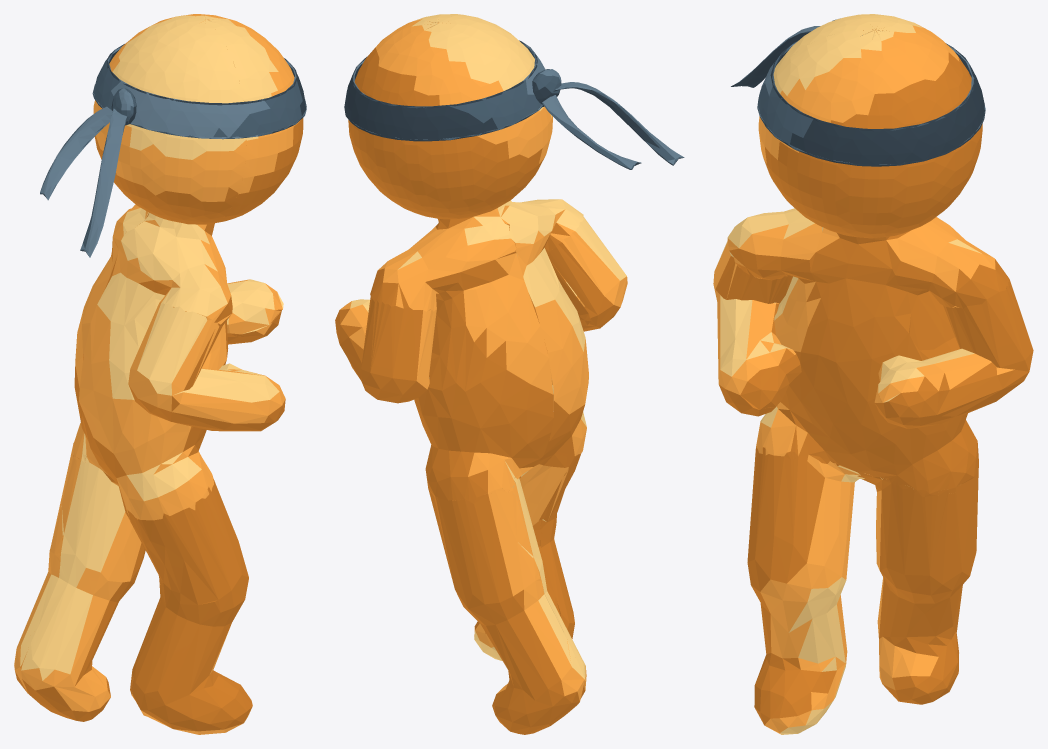
The model's file is Ninja_Jog4_R.gltf.
3 renders of one model, left to right at view 1: azimuth 30°, elevation 25°; view 2: azimuth 150°, elevation 25°; view 3: azimuth 270°, elevation 25°, orthographic. The views are drawn at different scales.
Parts seen in each view (by area): view 1: Ninja_Jog4_R_baked; view 2: Ninja_Jog4_R_baked; view 3: Ninja_Jog4_R_baked.
Part boxes in pixels (<box>): Ninja_Jog4_R_baked: <box>14,14,306,734</box>; Ninja_Jog4_R_baked: <box>335,14,684,734</box>; Ninja_Jog4_R_baked: <box>713,14,1033,734</box>.
Size of the model in its own units: 0.4153 by 1 by 0.3983.
